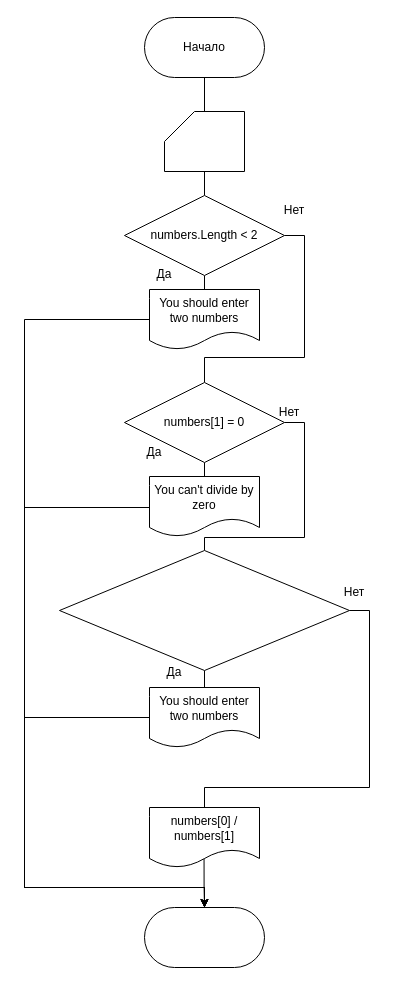
Image size: 402x985. Some labels were removed from this diagram. Each missing label, with the centre of its shape:
numbers: the point at 204,141
numbers[0] is not decimal or numbers[1] is not decimal: the point at 204,610
Конец: the point at 204,937
